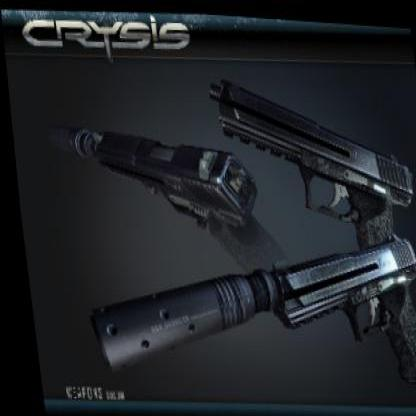pistol: (203, 64, 415, 254), (88, 117, 282, 276), (262, 218, 415, 380)
